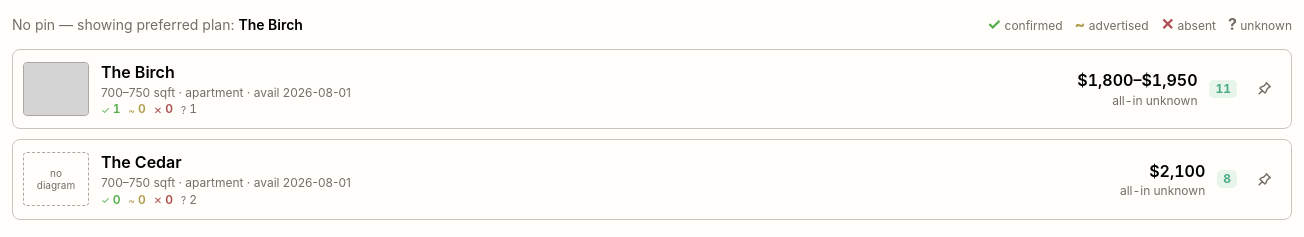
FloorPlanList — pin › unpins back to the best-scored plan
Click the button named "Pin The Cedar for 1 bd / 1 ba": [1264, 179] box [1247,162,1281,196]
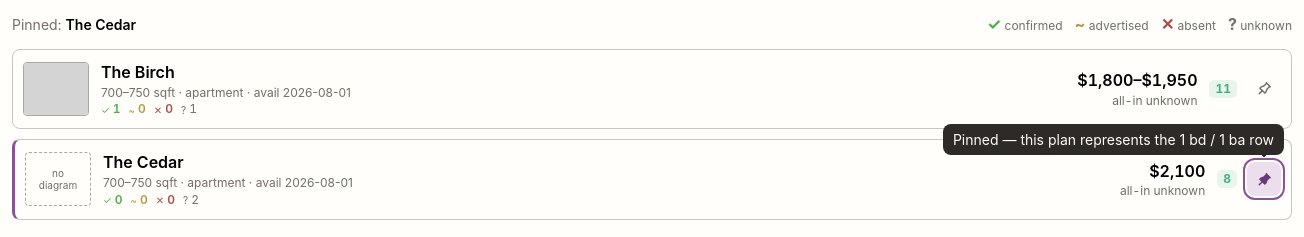
Click the button named "Unpin The Cedar for 1 bd / 1 ba": [1264, 179] box [1247,162,1281,196]
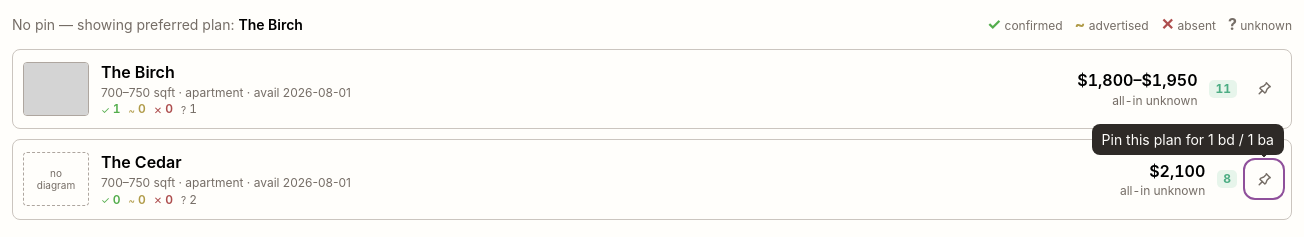
Expected: the text "No pin — showing preferred plan: The Birch" is shown, [12,15,303,35]
